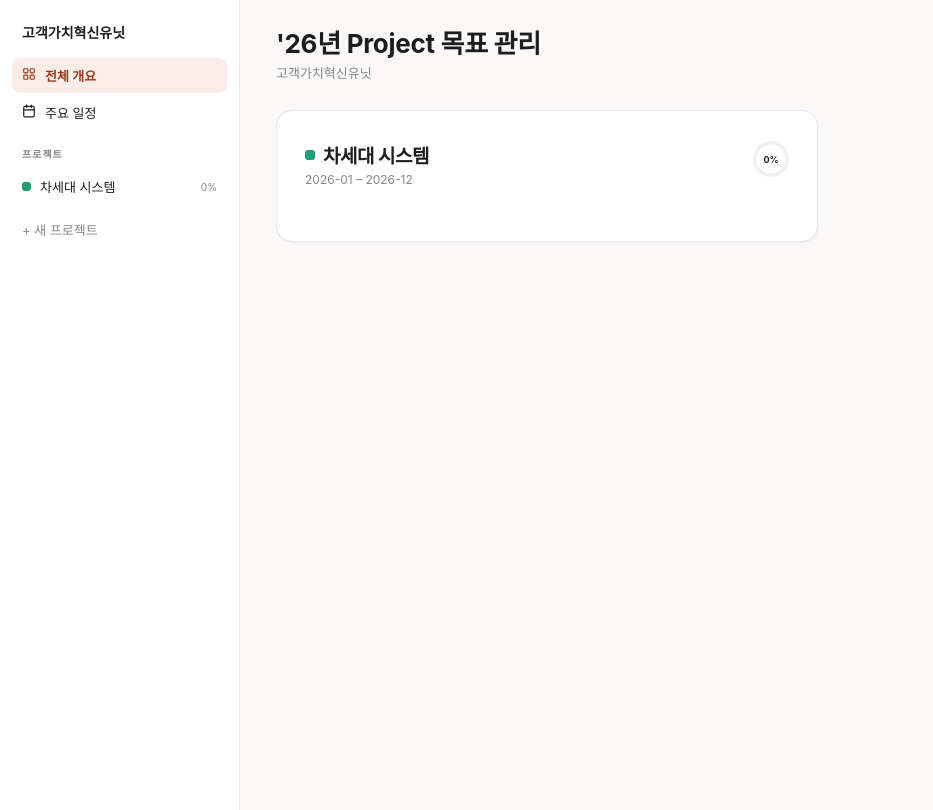
Test: 주요 일정 메뉴 클릭 시 일정 페이지를 보여준다
Click the button "주요 일정": {"x": 120, "y": 112} top-left (12, 95), bottom-right (227, 130)
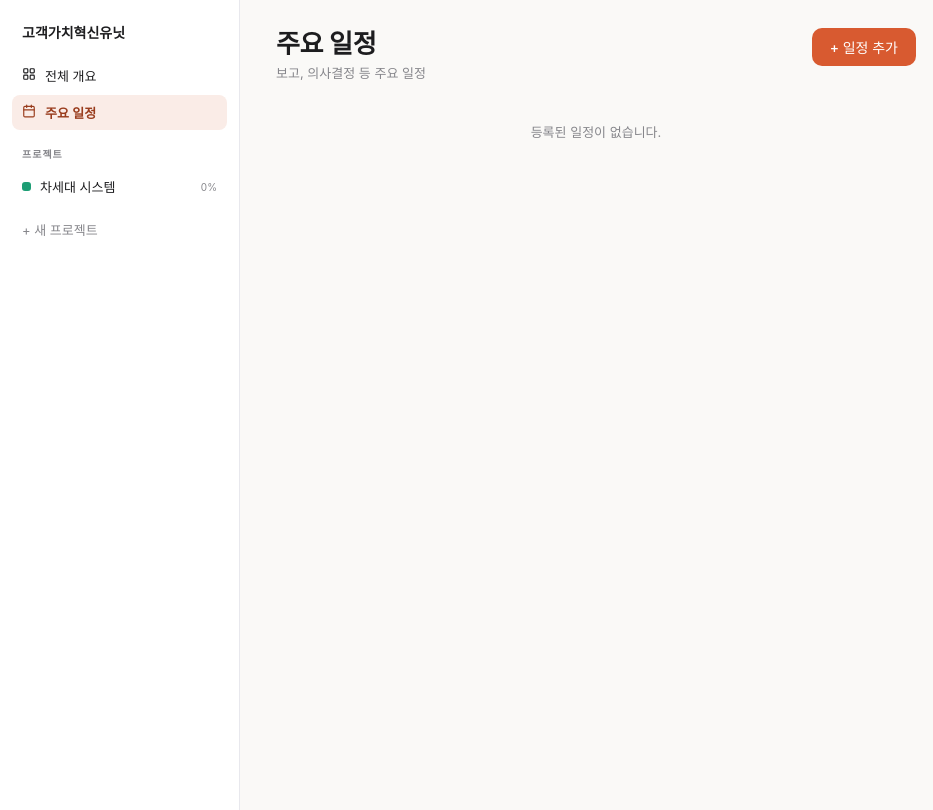
Now the heading "주요 일정" is shown, box top-left (276, 28), bottom-right (376, 59)
